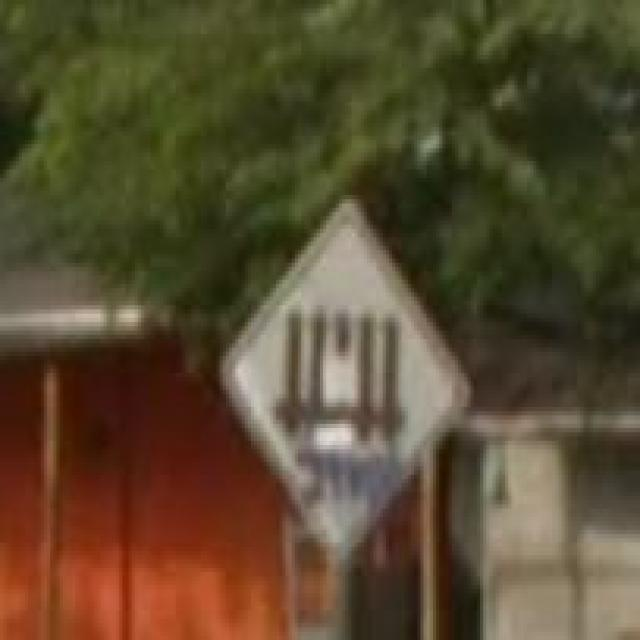traffic sign: (229, 229, 461, 538)
